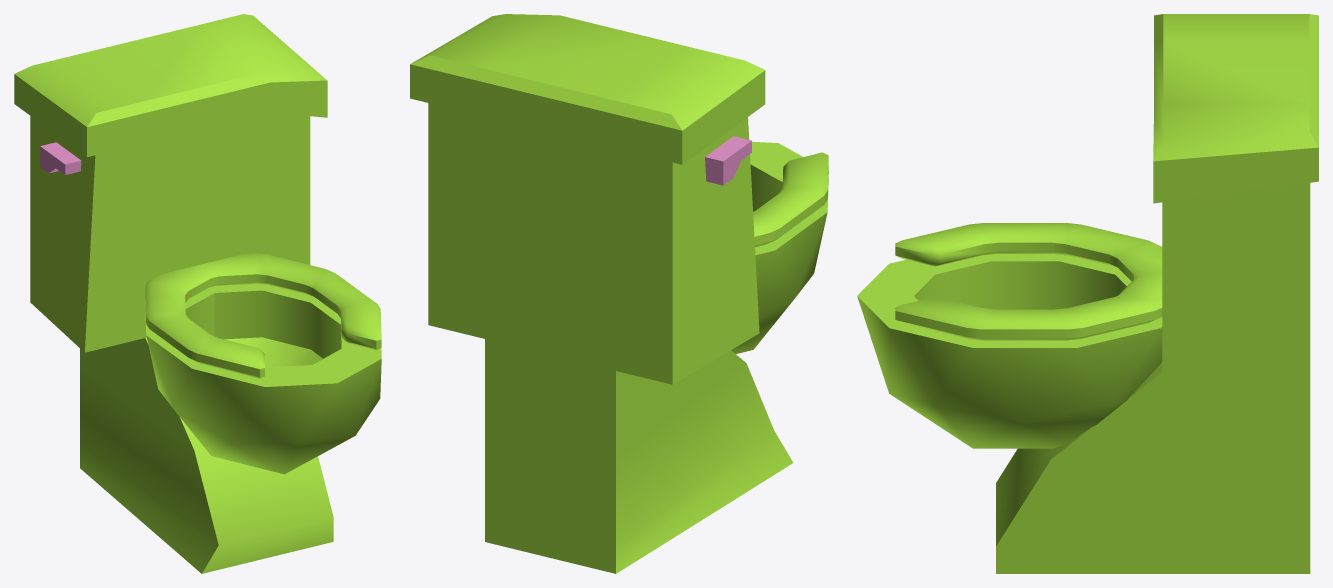
Rendered from toilet.fbx.
3 renders of one model, left to right at view 1: azimuth 30°, elevation 25°; view 2: azimuth 150°, elevation 25°; view 3: azimuth 270°, elevation 25°, orthographic. The views are drawn at different scales.
Parts seen in each view (by area): view 1: Toilet; view 2: Toilet; view 3: Toilet.
Boxes of the visible parts, <box> form: Toilet: <box>14,14,381,573</box>; Toilet: <box>410,14,828,573</box>; Toilet: <box>857,14,1318,573</box>.
Bounding box in the file's own units: 111 × 160 × 180.
